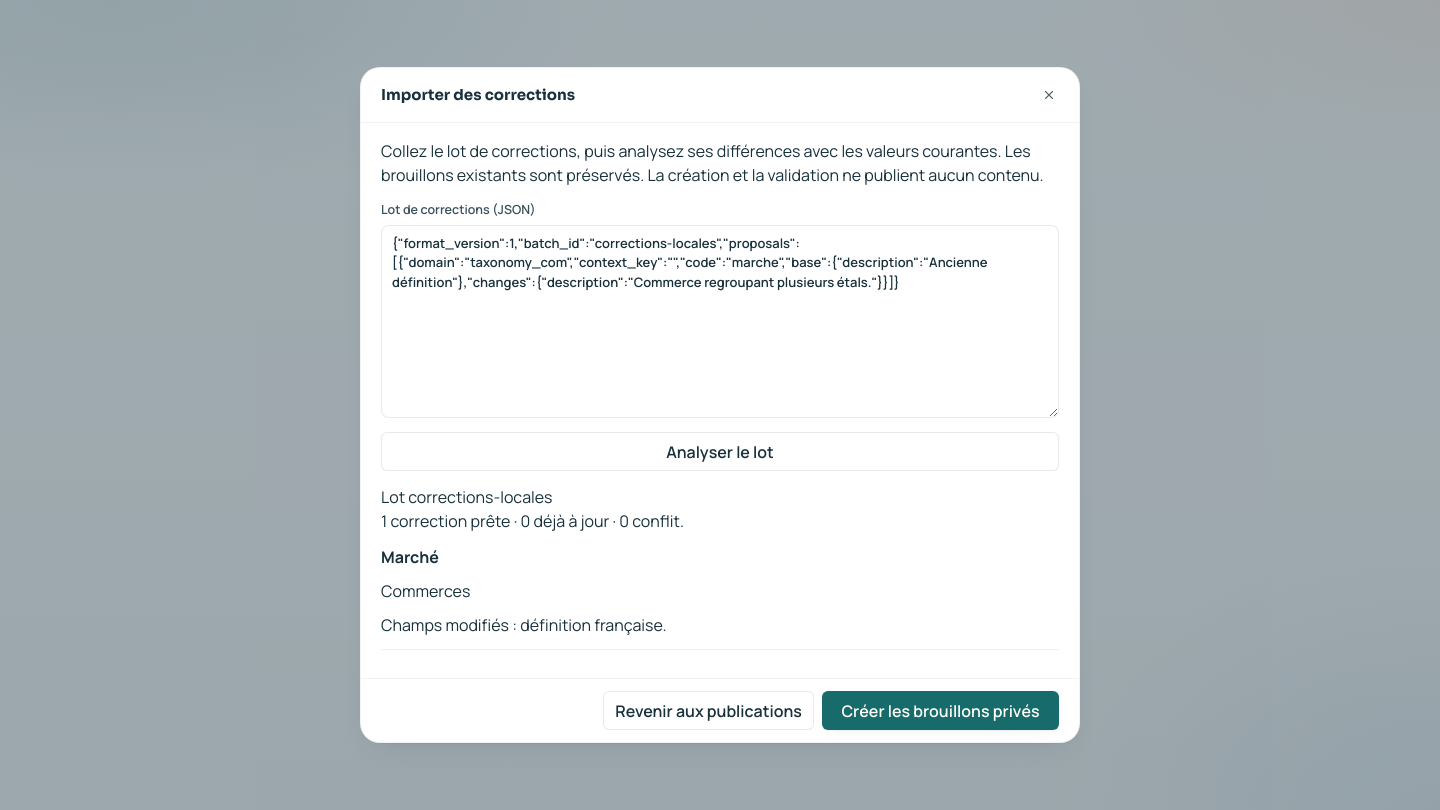
Test case: approved private import flow › requires analysis, creation, and separate validation and never publishes automatically
Earlier steps of the test are not shown.
Later steps or results of the test are not shown.
Expected: the text "Marché" is shown, [381,546,439,568]
Expected: the text "Commerces" is shown, [381,580,470,602]
Click the button "Créer les brouillons privés" at (940,710), box [822,691,1059,730]
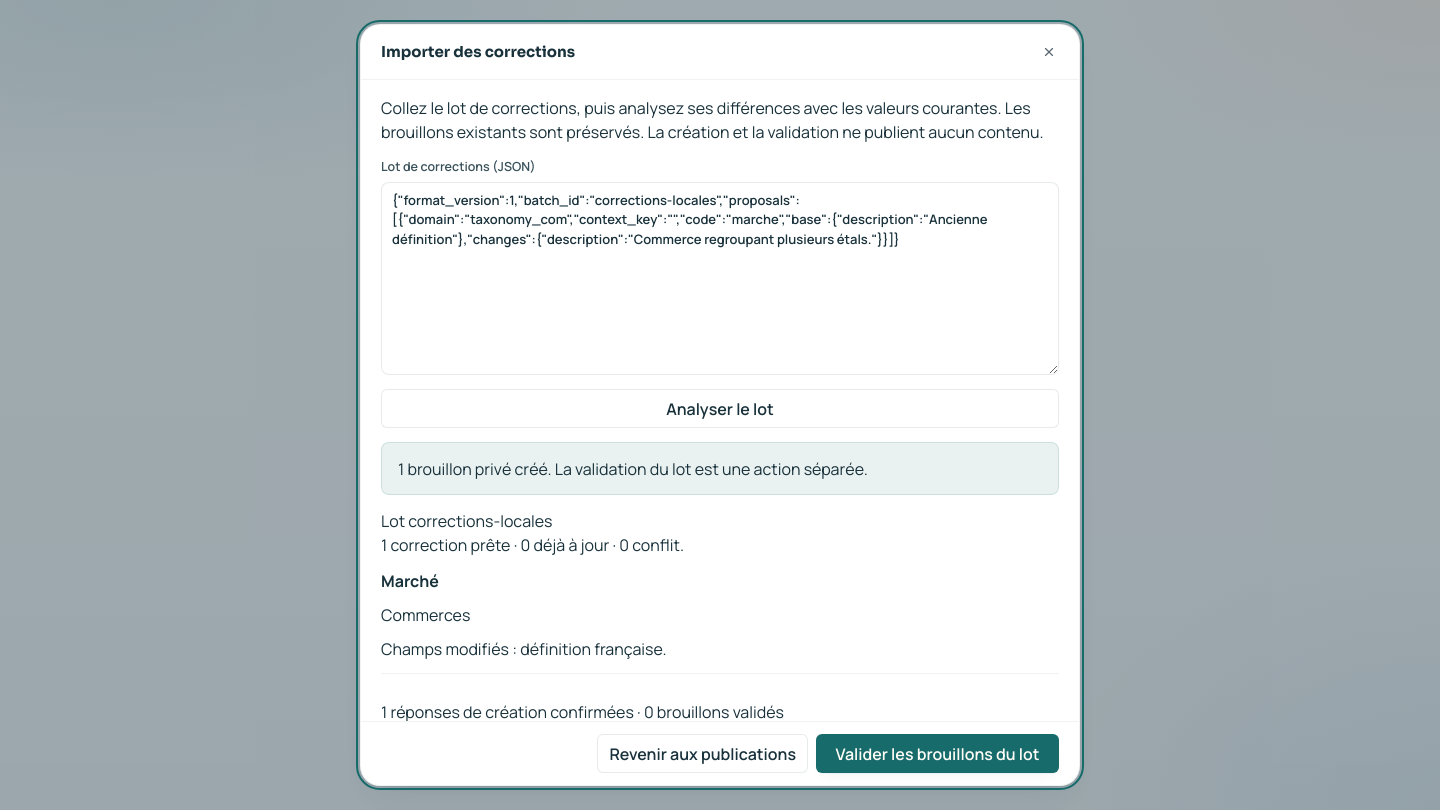
Expected: the text "1 brouillon privé créé. La validation du lot est une action séparée." is shown, [381,442,1059,495]
